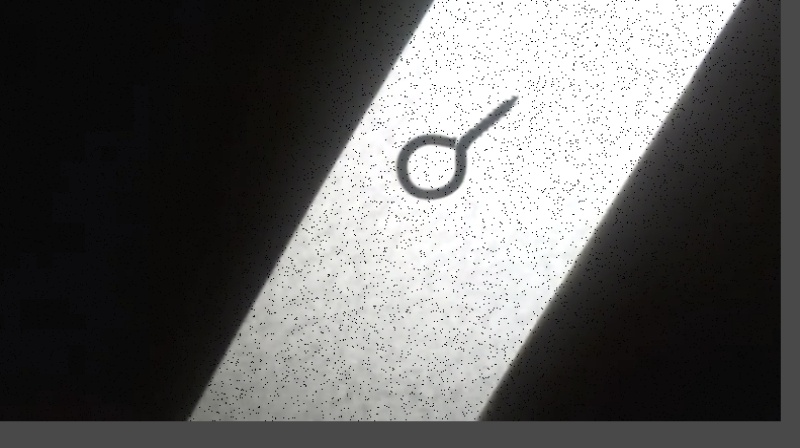O001: (393, 87, 523, 202)
